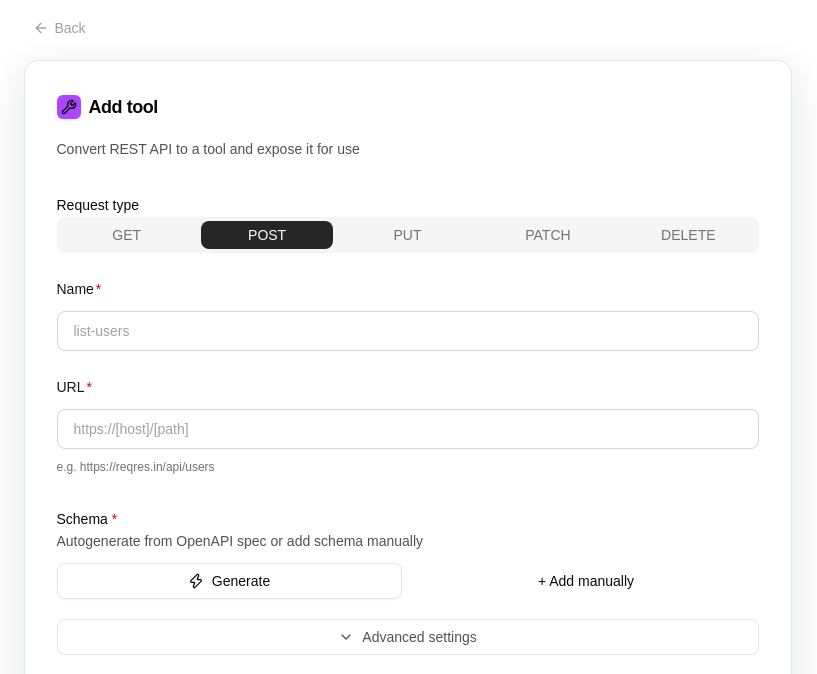
Scenario: ToolForm › Schema generation from OpenAPI › shows the 'Generated from' caption with the returned spec_url
Type "https://api.example.com/endpoint" into the field labelled "URL *" at {"x": 408, "y": 429}, box [56,409,758,449]
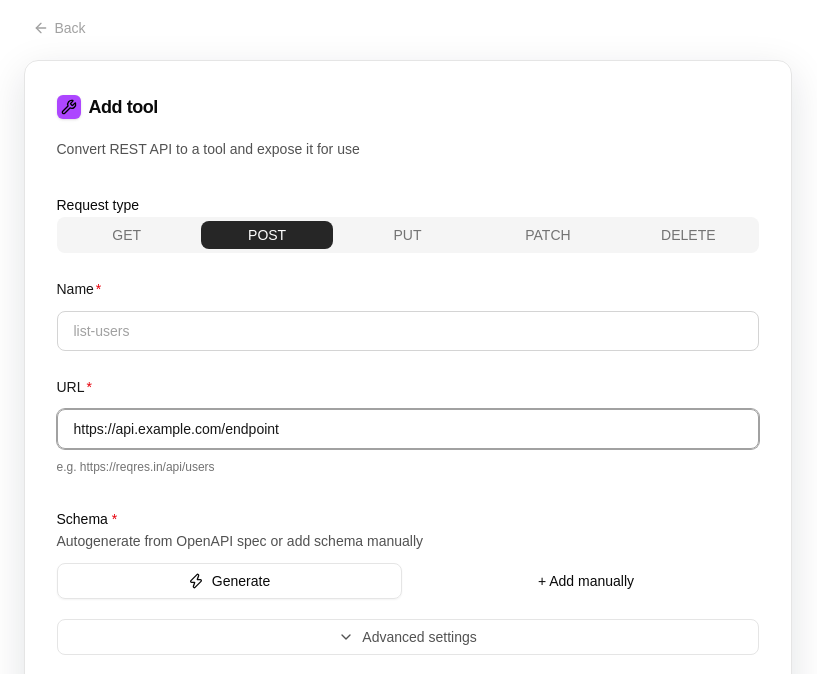
Click the button "Generate" at {"x": 229, "y": 581}, box [56,563,402,599]
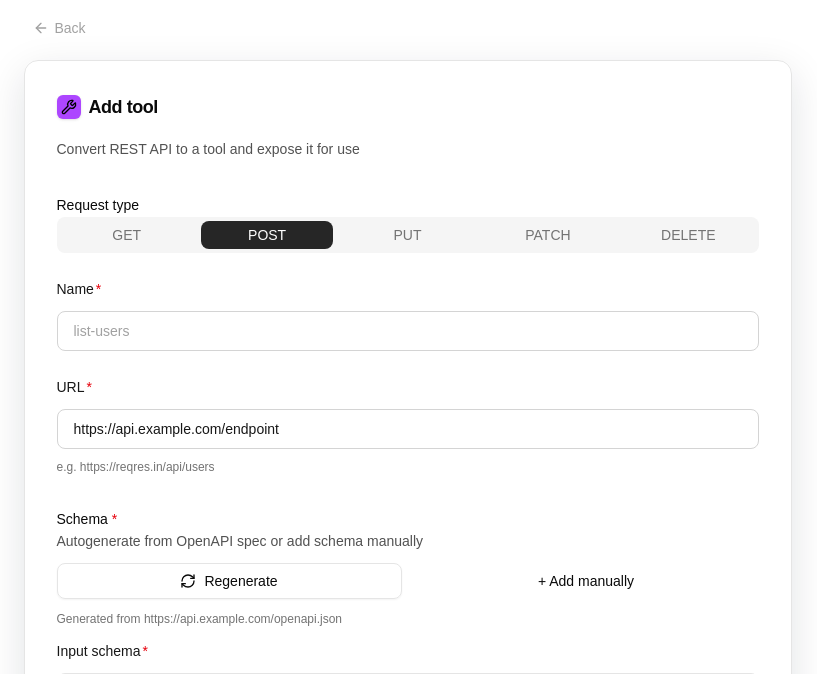
Result: the text "Generated from https://api.example.com/openapi.json" is shown at [56,612,342,626]
